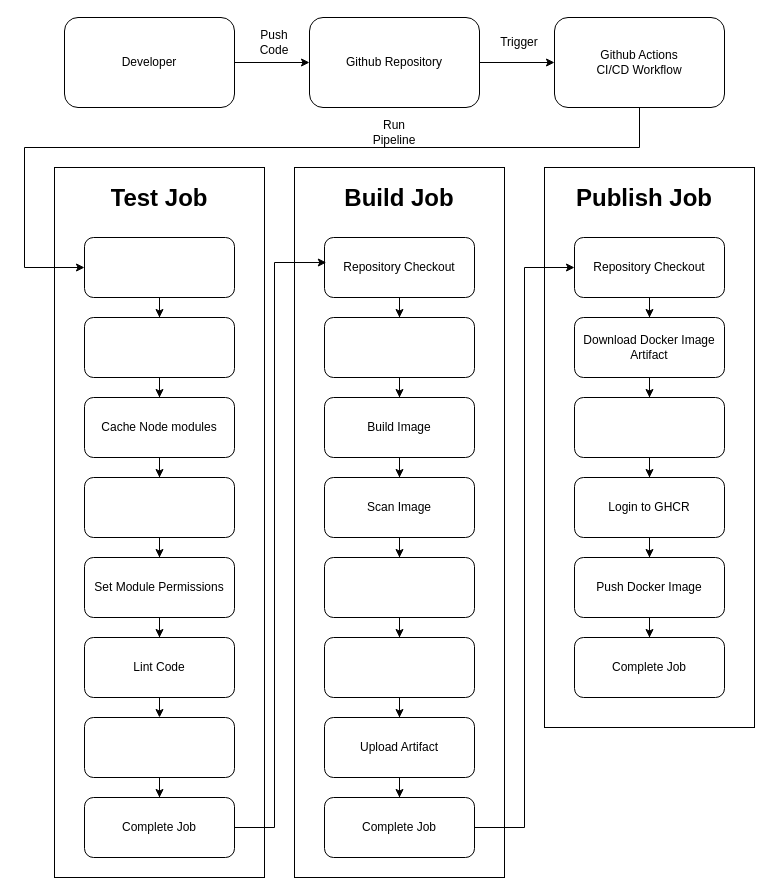
This 772x895 diagram has some shape labels left out. Each missing label, with the centre of its shape:
"Checkout Repository" belongs at point 159,267.
"Install dependencies" belongs at point 159,507.
"Load Docker Image" belongs at point 649,427.
"Run Tests" belongs at point 159,747.
"Save Docker Image" belongs at point 399,667.
"Set Image Tag" belongs at point 399,347.
"Setup Node.js" belongs at point 159,347.
"Update Github with Scan Report" belongs at point 399,587.
